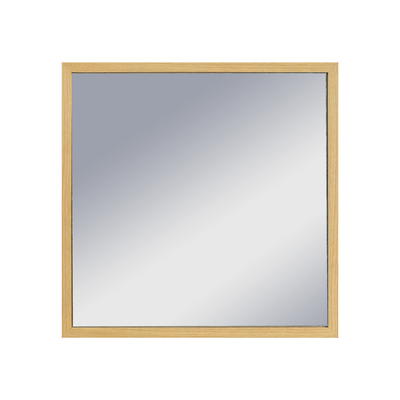Nonrec_Glass: (56, 47, 344, 344)
